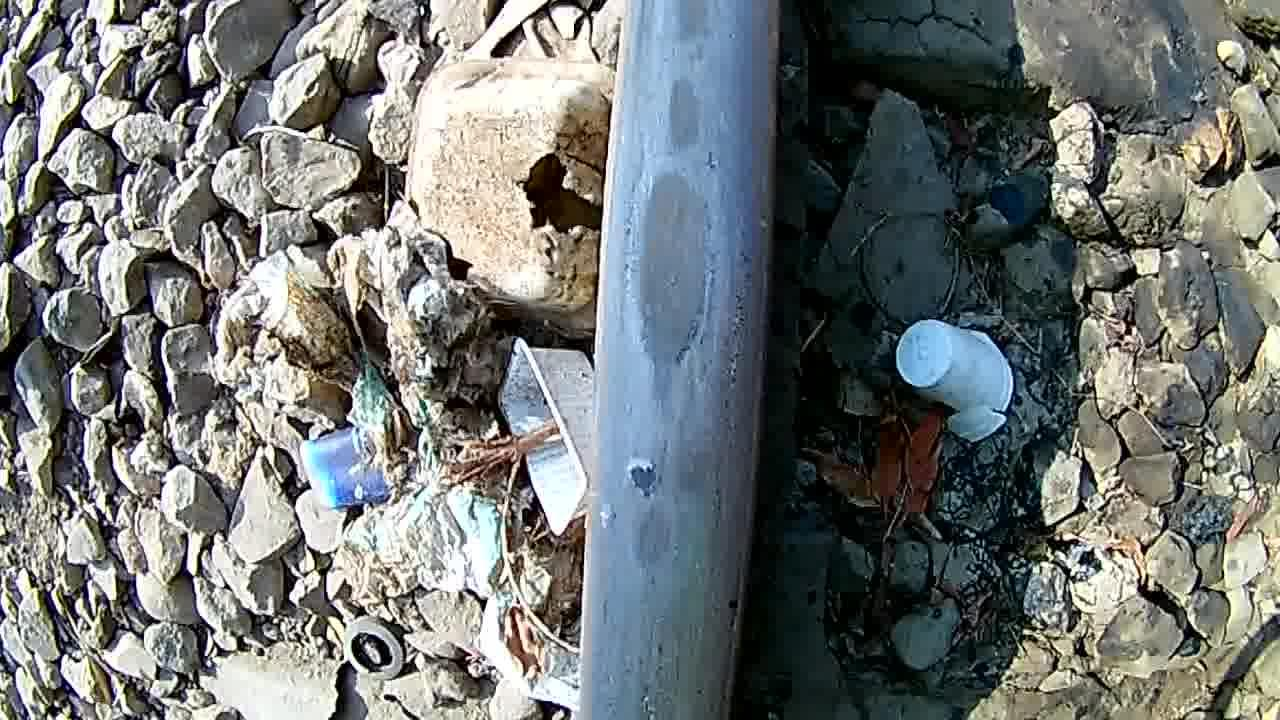bolt_missing: (606, 0, 764, 718)
